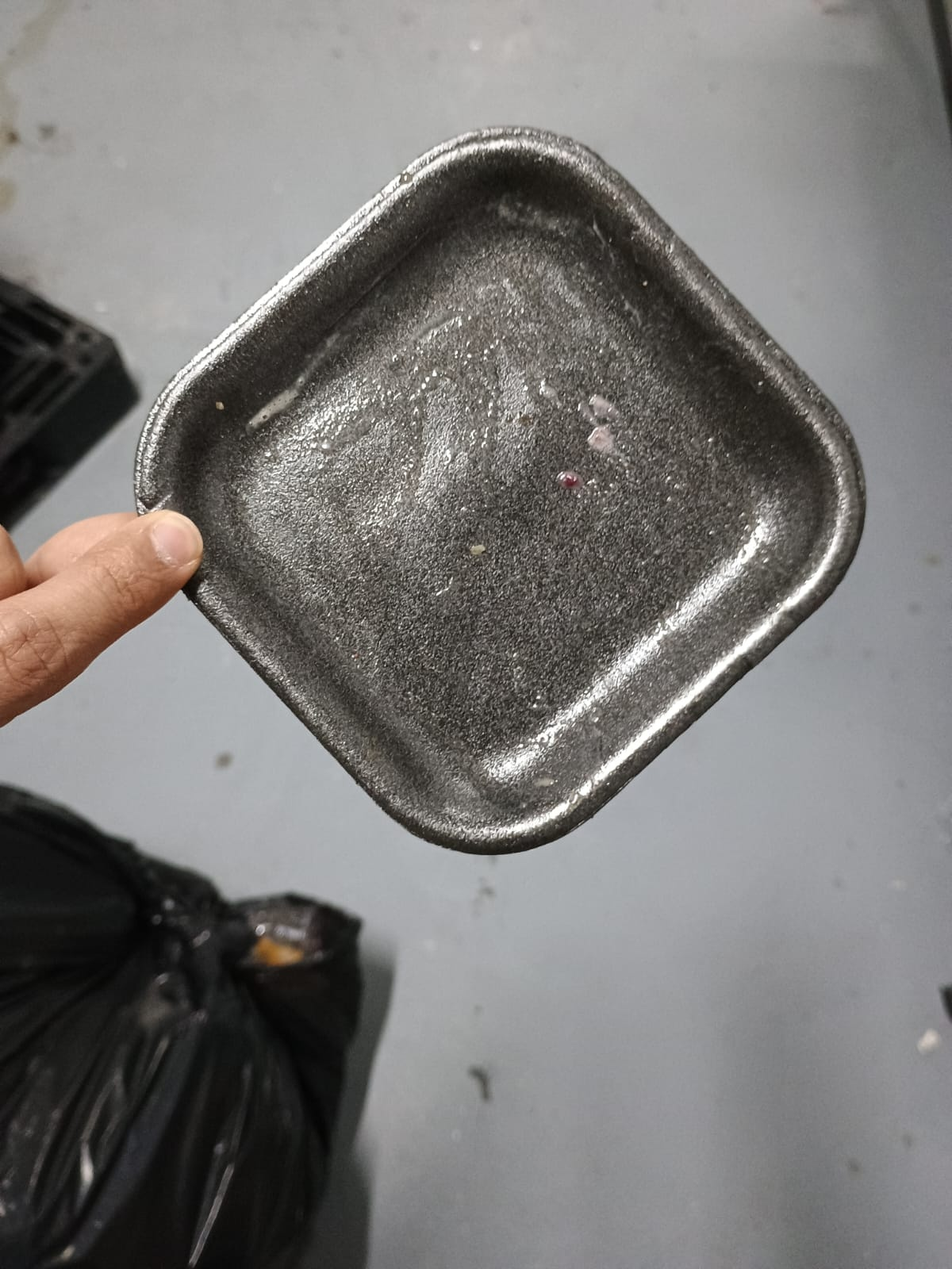Ordinario: (127, 124, 867, 858)
